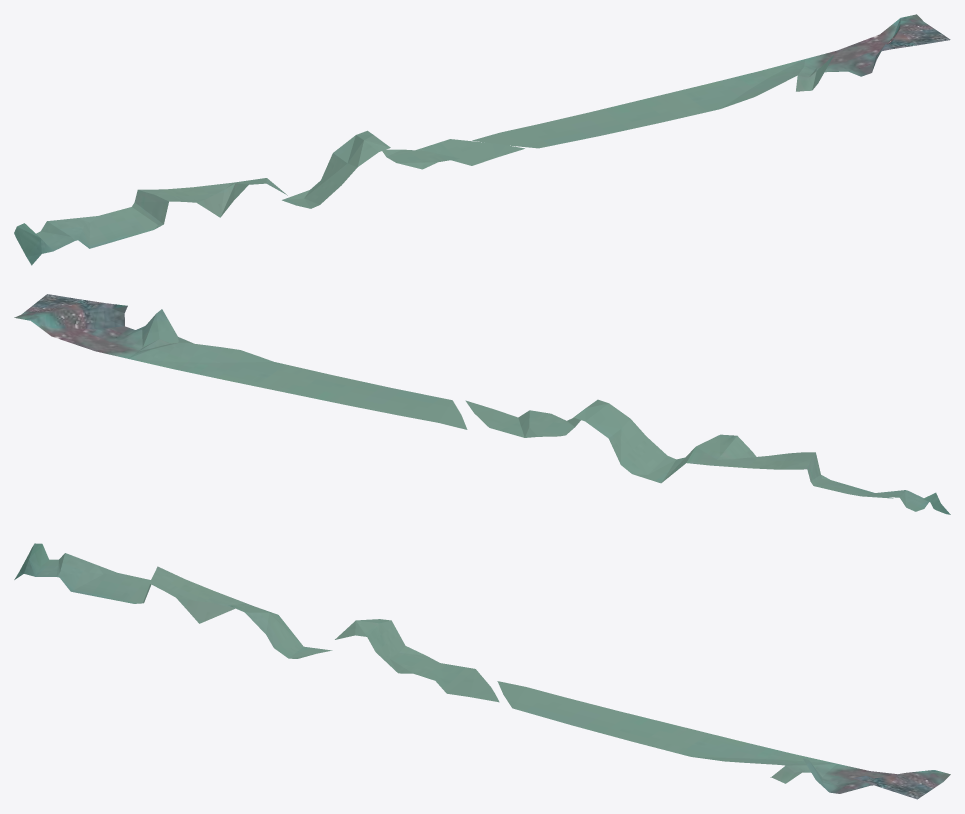
File: Tile_+008_+008.glb
The picture shows the model from 3 angles, top to bottom: view 1: azimuth 30°, elevation 25°; view 2: azimuth 150°, elevation 25°; view 3: azimuth 330°, elevation 25°; orthographic projection.
Visible parts, largest first — view 1: rtc; view 2: rtc; view 3: rtc.
Part boxes in pixels (x1,y1,x2,y2): rtc: (14, 14, 950, 265); rtc: (14, 294, 950, 514); rtc: (14, 543, 950, 799).
Bounding box in the file's own units: 191 × 10.85 × 12.44.
Materials: 1 (1 with a texture image).
